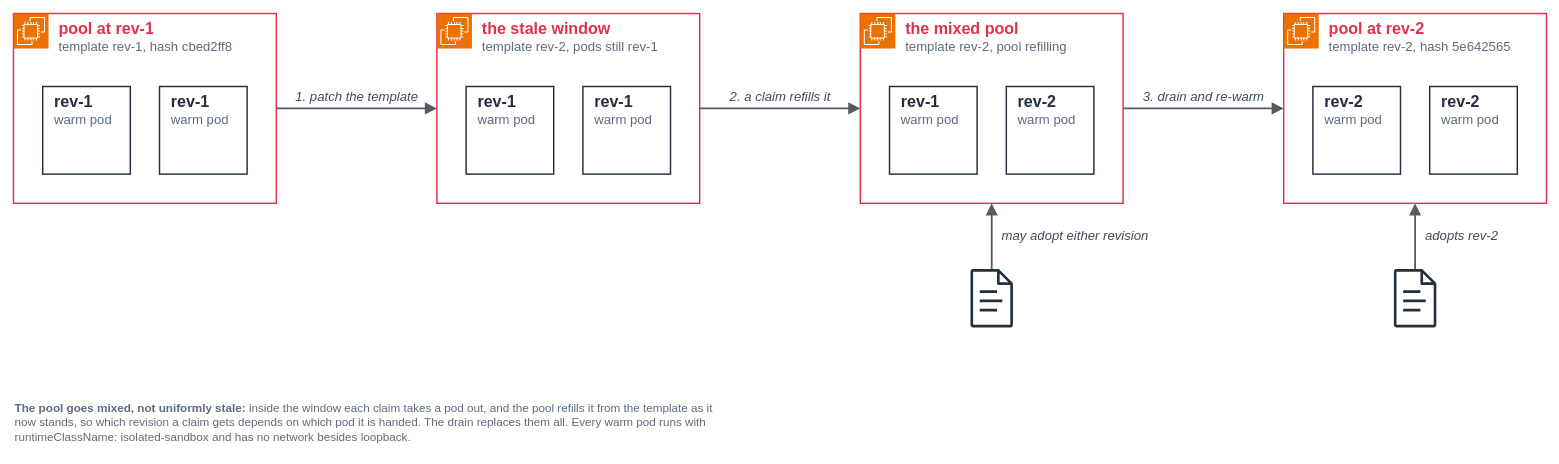
Image size: 1559x464. Some labels were removed from this diagram. The shapes that lost their labels are listed below. From the top down, each one's centre as x and y in pixels, then its label:
(x=991, y=298): SandboxClaim once it is mixed
(x=1415, y=298): SandboxClaim after the drain
